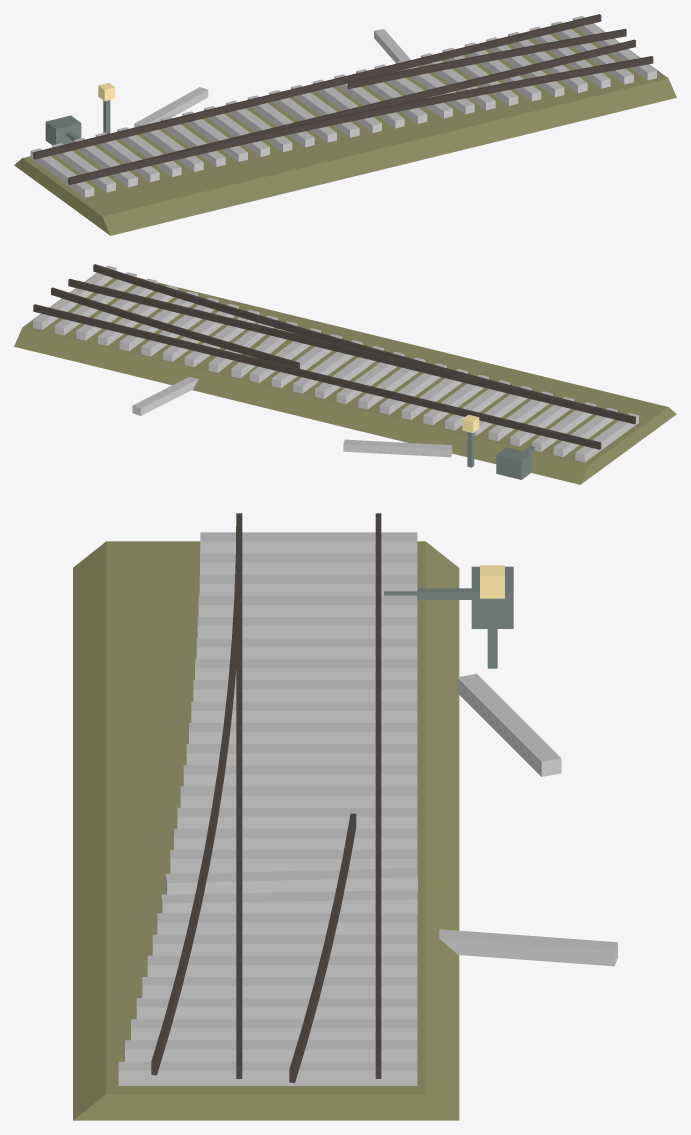
Rendered from SM_Via_DesvioDer_v4_Danada_LOD0.fbx.
3 views of the same model, one above another, from view 1: azimuth 30°, elevation 25°; view 2: azimuth 150°, elevation 25°; view 3: azimuth 270°, elevation 25° (orthographic). The views are drawn at different scales.
Parts seen in each view (by area): view 1: SM_via_trazado_v34_LOD0; view 2: SM_via_trazado_v34_LOD0; view 3: SM_via_trazado_v34_LOD0.
Boxes of the visible parts, x1=… form: SM_via_trazado_v34_LOD0: x1=14, y1=14, x2=676, y2=235; SM_via_trazado_v34_LOD0: x1=14, y1=264, x2=676, y2=484; SM_via_trazado_v34_LOD0: x1=73, y1=513, x2=617, y2=1120.
Size of the model in its own units: 15.78 by 1.27 by 6.53.
